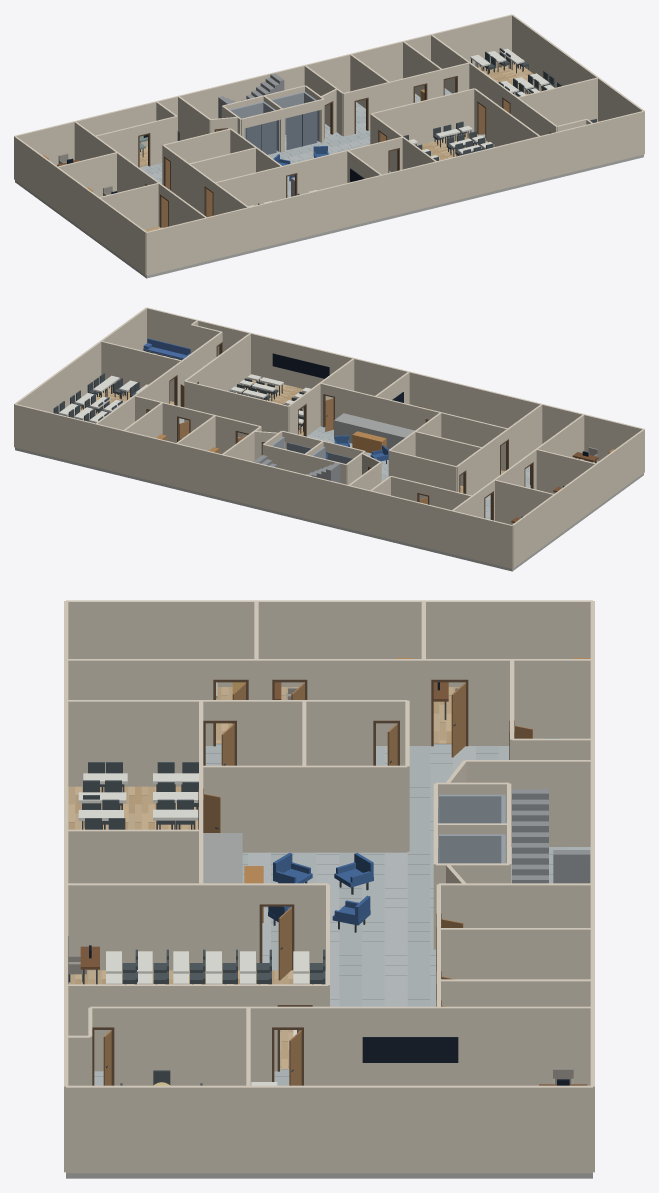
The model's file is bau-floor-7.glb.
The picture shows the model from 3 angles, top to bottom: view 1: azimuth 30°, elevation 25°; view 2: azimuth 150°, elevation 25°; view 3: azimuth 270°, elevation 25°; orthographic projection. The views are drawn at different scales.
Parts seen in each view (by area): view 1: Wall_20002, Wall_20000, Wall_20003, Wall_20001, Wall_20032, Wall_20013_2, Wall_20028, Floor_slab, Wall_20013, Wall_20027, Wall_20006, Wall_20005 (+26 smaller); view 2: Wall_20000, Wall_20002, Wall_20003, Wall_20001, Wall_20032, Wall_20028, Wall_20013_2, Floor_slab, Wall_20034_2, Wall_20009, Wall_20006, Wall_20005 (+25 smaller); view 3: Wall_20001, Wall_20003, Wall_20027, Wall_20012, Wall_20033_2, Wall_20029, Wall_20004, Wall_20010_4, Wall_20010_2, Wall_20024, Wall_20014, Wall_20023 (+23 smaller).
Part boxes in pixels (left/top/right/bottom): Wall_20002: left=146, top=111, right=644, bottom=275; Wall_20000: left=14, top=14, right=512, bottom=165; Wall_20003: left=14, top=136, right=146, bottom=275; Wall_20001: left=512, top=14, right=644, bottom=153; Wall_20032: left=370, top=88, right=474, bottom=145; Wall_20013_2: left=296, top=140, right=388, bottom=194; Wall_20028: left=518, top=77, right=597, bottom=125; Floor_slab: left=15, top=154, right=643, bottom=278; Wall_20013: left=216, top=165, right=285, bottom=206; Wall_20027: left=431, top=35, right=503, bottom=107; Wall_20006: left=99, top=183, right=158, bottom=229; Wall_20005: left=57, top=152, right=116, bottom=196; Wall_20000: left=14, top=404, right=512, bottom=568; Wall_20002: left=147, top=307, right=644, bottom=460; Wall_20003: left=512, top=429, right=644, bottom=568; Wall_20001: left=14, top=307, right=146, bottom=446; Wall_20032: left=184, top=381, right=288, bottom=448; Wall_20028: left=101, top=341, right=181, bottom=401; Wall_20013_2: left=335, top=386, right=426, bottom=430; Floor_slab: left=15, top=447, right=643, bottom=571; Wall_20034_2: left=197, top=333, right=250, bottom=390; Wall_20009: left=389, top=450, right=456, bottom=498; Wall_20006: left=536, top=449, right=595, bottom=493; Wall_20005: left=495, top=479, right=554, bottom=524; Wall_20001: left=66, top=1085, right=592, bottom=1173; Wall_20003: left=66, top=600, right=592, bottom=686; Wall_20027: left=304, top=1006, right=592, bottom=1085; Wall_20012: left=201, top=765, right=407, bottom=852; Wall_20033_2: left=66, top=883, right=259, bottom=970; Wall_20029: left=114, top=1006, right=248, bottom=1085; Wall_20004: left=468, top=659, right=592, bottom=745; Wall_20010_4: left=66, top=700, right=202, bottom=786; Wall_20010_2: left=237, top=700, right=373, bottom=765; Wall_20024: left=441, top=928, right=592, bottom=979; Wall_20014: left=66, top=829, right=200, bottom=883; Wall_20023: left=439, top=883, right=592, bottom=927.
Size of the model in its own units: 32.92 by 2.9 by 15.16.
